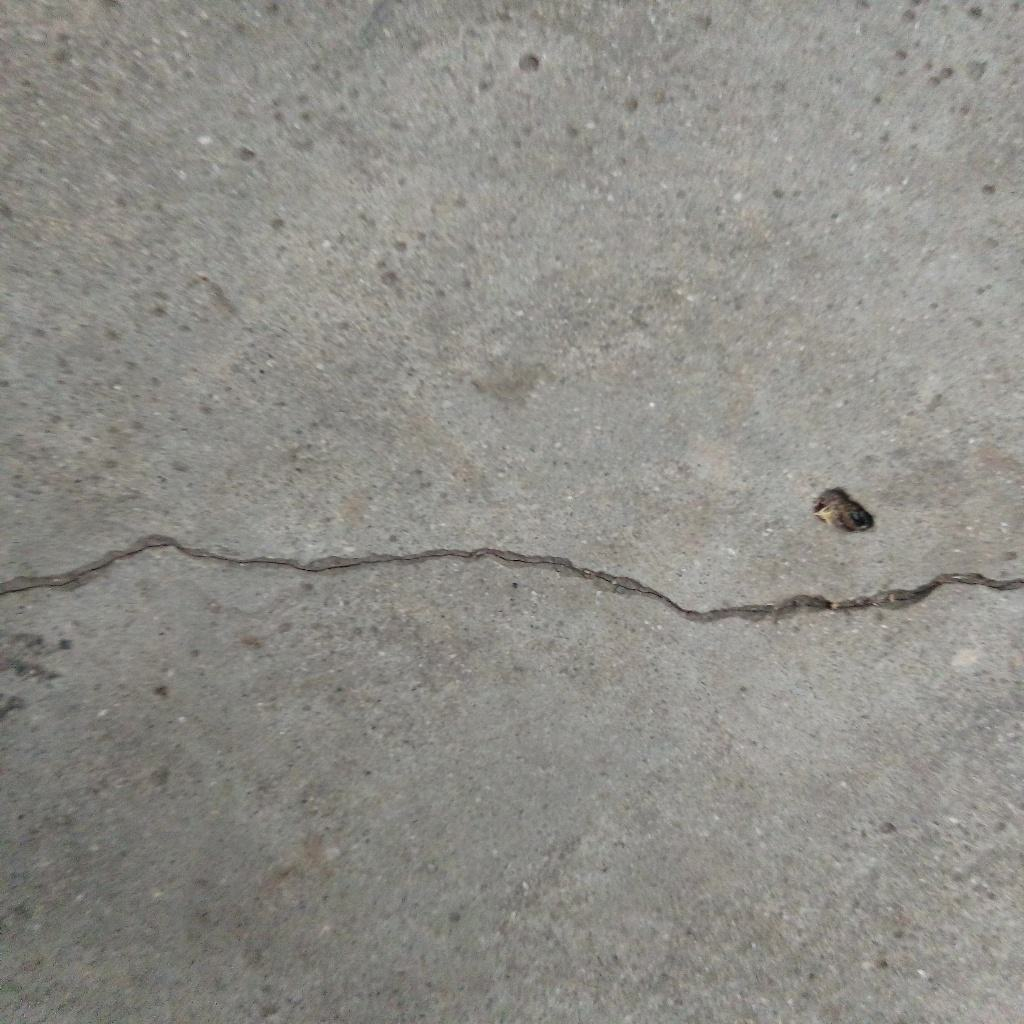Crack: (1, 534, 1024, 625)
Spalling: (811, 486, 876, 534)
